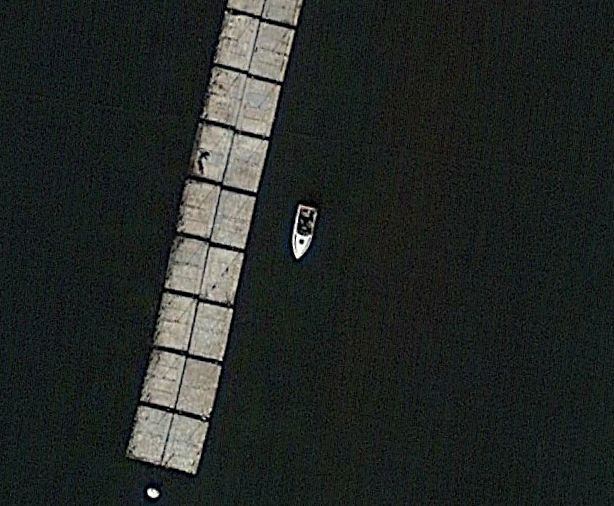boat: (289, 202, 321, 262)
